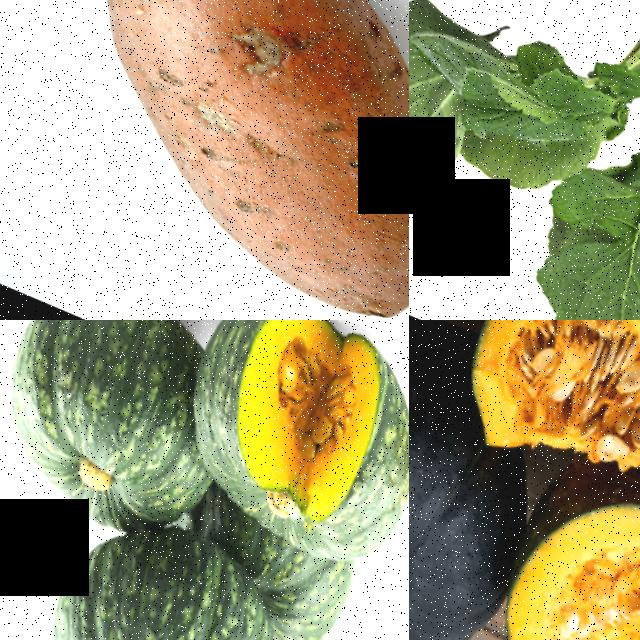potato: (2, 0, 409, 320)
pumpkin: (163, 320, 409, 570), (0, 320, 221, 544), (409, 340, 545, 640), (10, 506, 293, 640), (463, 428, 640, 640), (442, 320, 640, 497)
